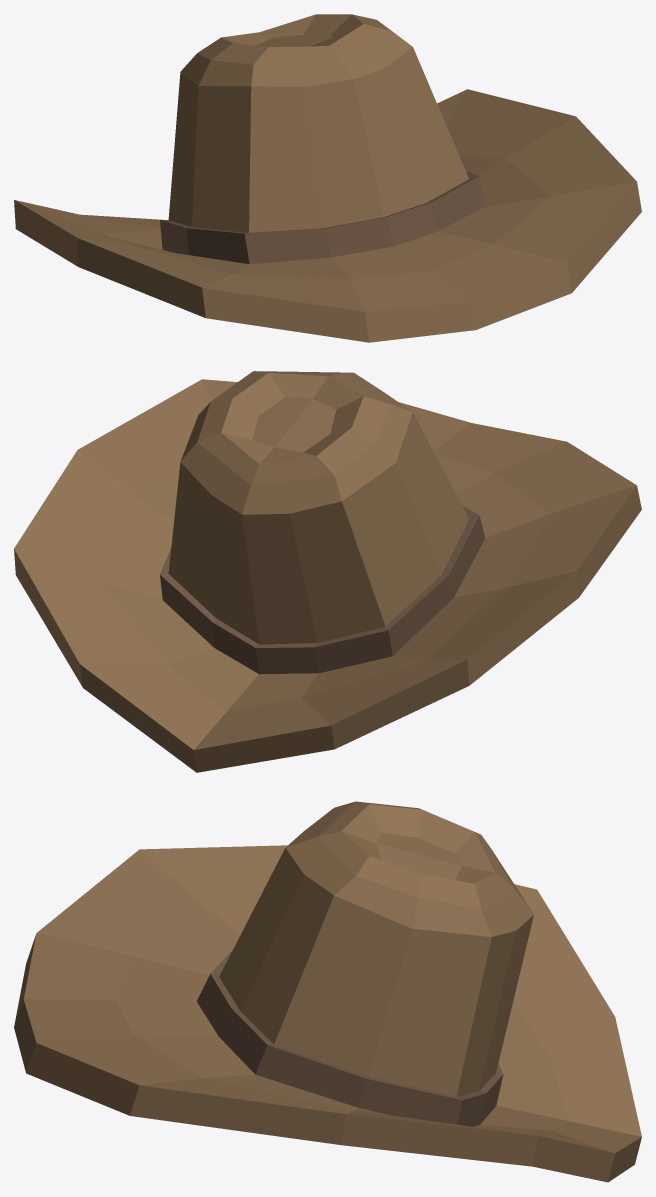
File: CowboyHat.fbx
3 renders of one model, top to bottom at view 1: azimuth 30°, elevation 25°; view 2: azimuth 150°, elevation 25°; view 3: azimuth 270°, elevation 25°, orthographic. The views are drawn at different scales.
Visible parts, largest first — view 1: CowboyHat; view 2: CowboyHat; view 3: CowboyHat.
Part boxes in pixels (x1,y1,x2,y2): CowboyHat: (14,14,641,342); CowboyHat: (14,371,641,772); CowboyHat: (14,801,641,1182).
Bounding box in the file's own units: 34.51 × 19.82 × 33.72.
